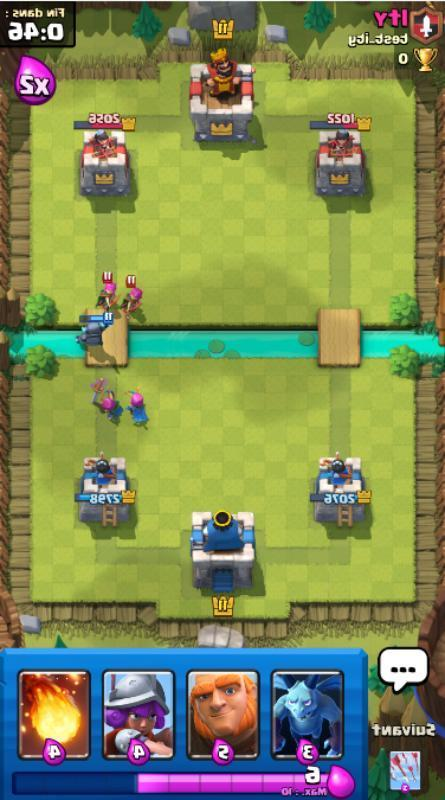enemy_archers: (120, 275, 146, 313), (95, 272, 120, 308)
player_archers: (124, 387, 153, 425), (96, 386, 125, 422)
player_mini_pekka: (68, 308, 117, 352)
